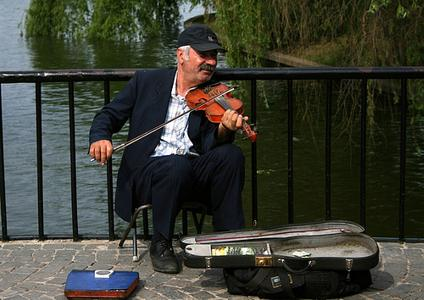person: (91, 26, 247, 273)
